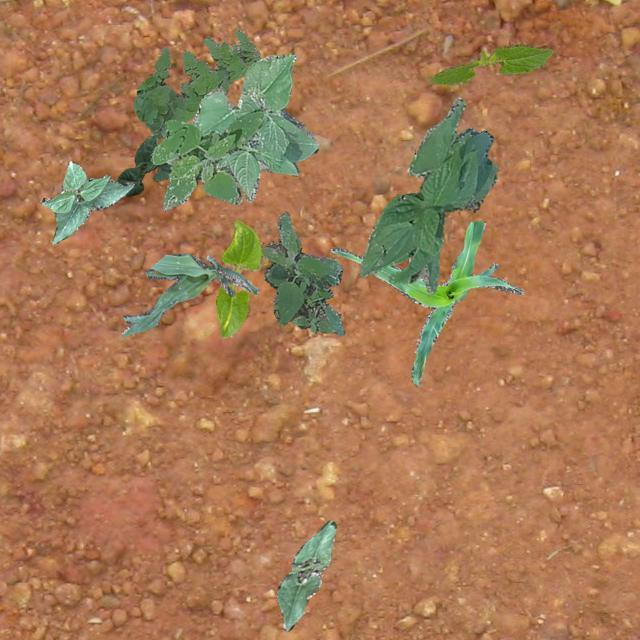crop: (330, 220, 522, 384), (358, 96, 497, 292), (165, 51, 318, 200), (120, 252, 258, 336), (40, 160, 134, 242), (276, 520, 336, 630), (214, 218, 264, 338), (426, 42, 552, 84), (116, 134, 170, 196)
weed: (133, 29, 260, 138), (148, 108, 264, 210), (260, 212, 344, 334)
